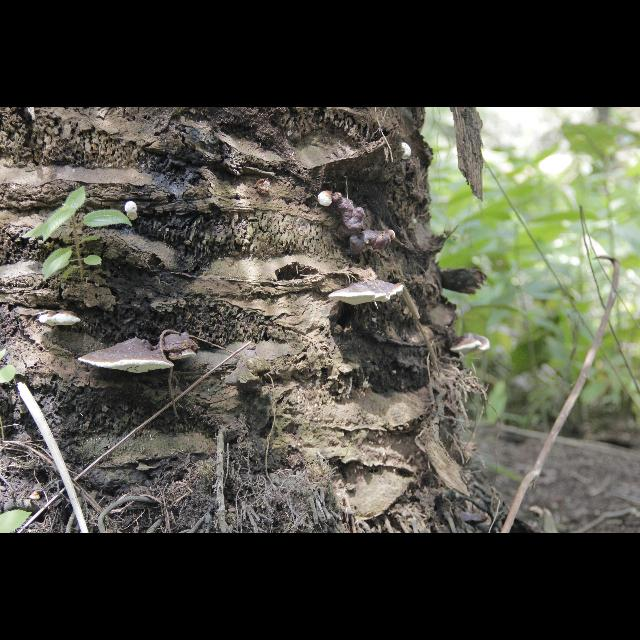ganoderma: (80, 338, 177, 375), (334, 193, 389, 257), (330, 280, 405, 307), (162, 333, 202, 362), (451, 335, 491, 356), (40, 311, 82, 328)
primordium: (126, 202, 139, 222), (319, 191, 333, 208), (401, 143, 412, 161), (388, 230, 396, 242)
